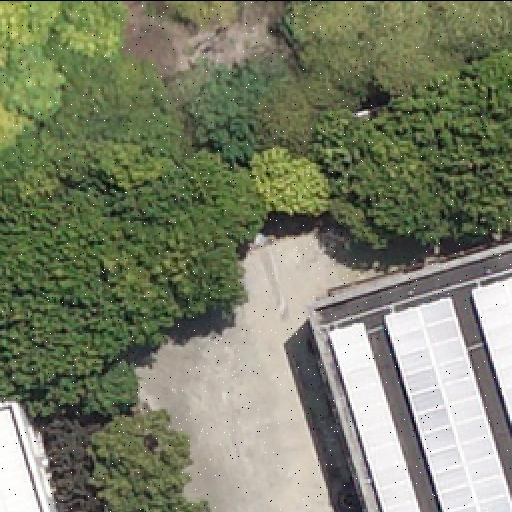solar-panel: (380, 294, 512, 512), (326, 320, 422, 512), (468, 275, 512, 429)
